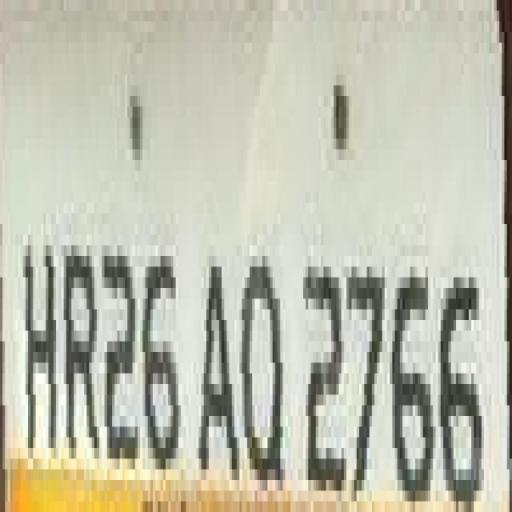number plate: (0, 30, 492, 510)
